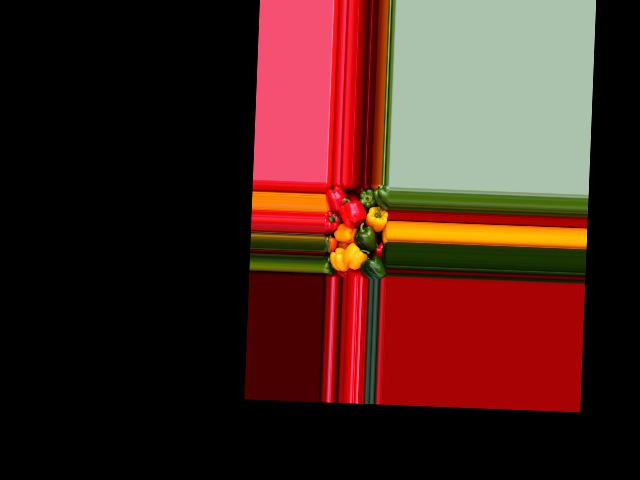bell_pepper: (322, 252, 334, 274)
